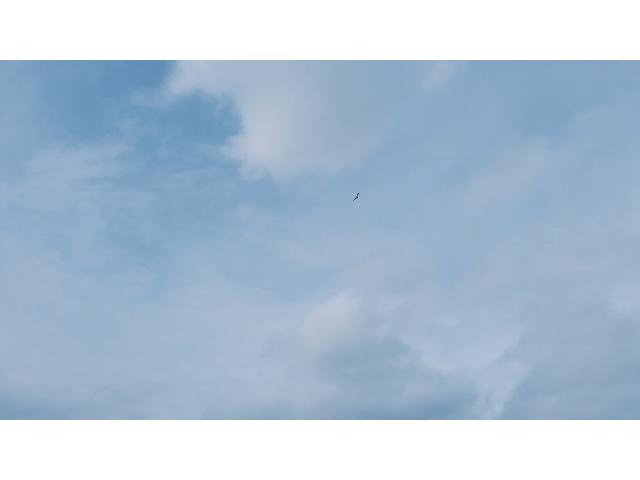Anti-Drone: (350, 191, 362, 203)
